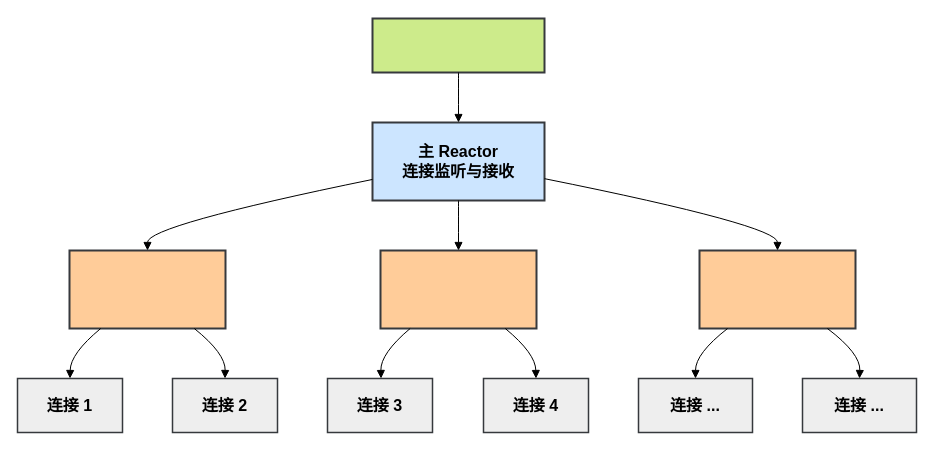
The diagram is 935 pixels wide and 450 high, and some of its shapes have lost their labels. The centre of each missing label's shape, as x and y in pixels:
"从 Reactor 1 读写事件处理" belongs at point 147,289.
"从 Reactor 2 读写事件处理" belongs at point 458,289.
"从 Reactor N 读写事件处理" belongs at point 777,289.
"客户端建立连接" belongs at point 458,45.
